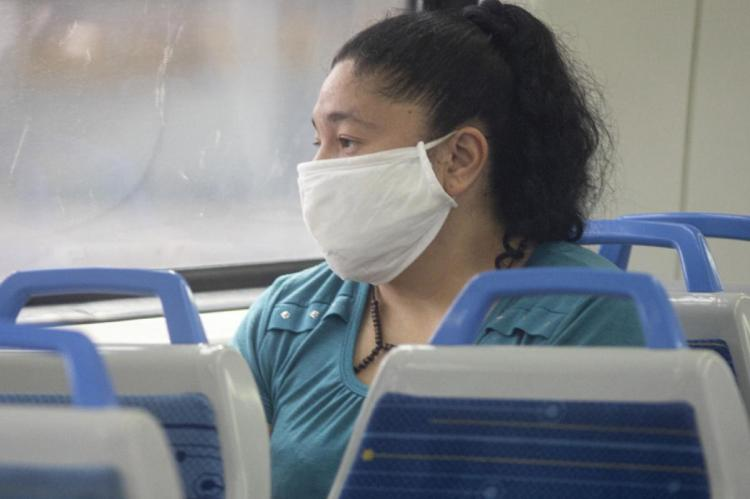barbijo: (280, 138, 460, 290)
